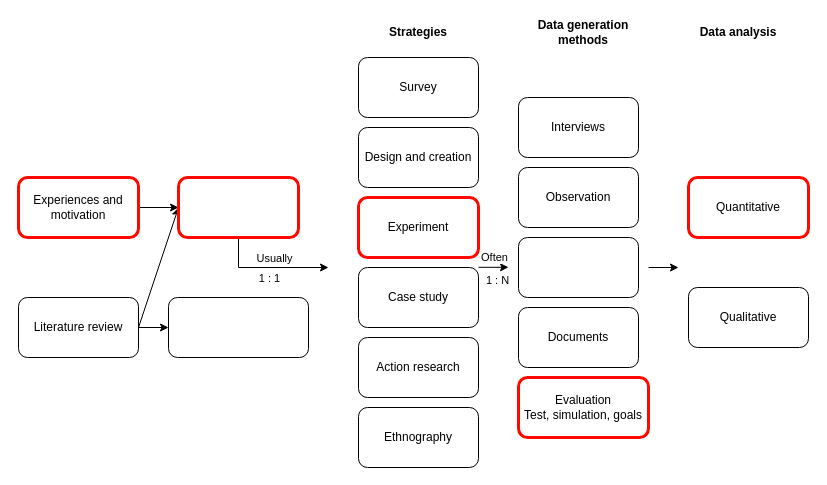
Image size: 827x485. Some labels were removed from this diagram. The shapes that lost their labels are listed below. From the top down, each one's centre as x and y in pixels, then its label:
At (x=238, y=207): "Research questions".
At (x=578, y=267): "Questionnaires".
At (x=238, y=327): "Conceptual framework".
